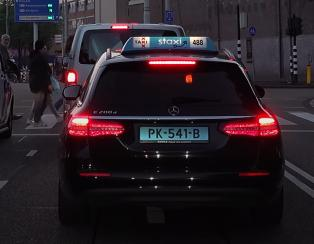license-plate: (139, 126, 211, 144)
